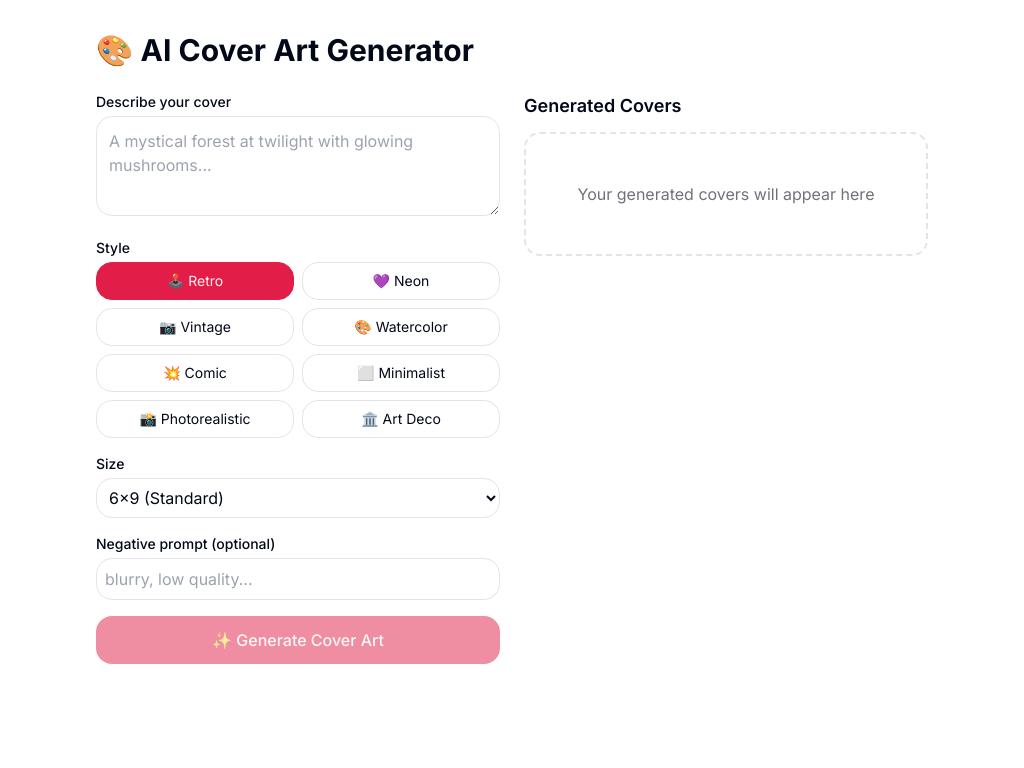
CoverArtGenerator › enables generate button when prompt is entered
This screenshot has width=1024, height=768.
In the text box with test id "prompt-input": (298, 166) [96,116,500,216], type "A magical forest"
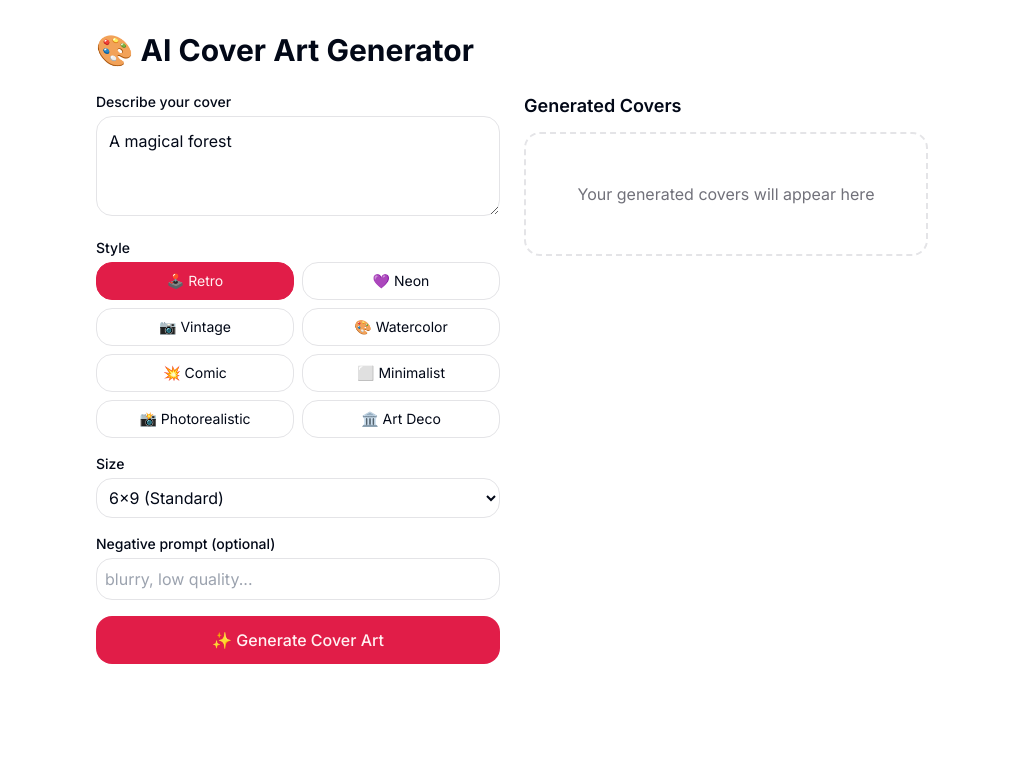
Check: the button with test id "generate-btn" is enabled, box [96,616,500,664]
